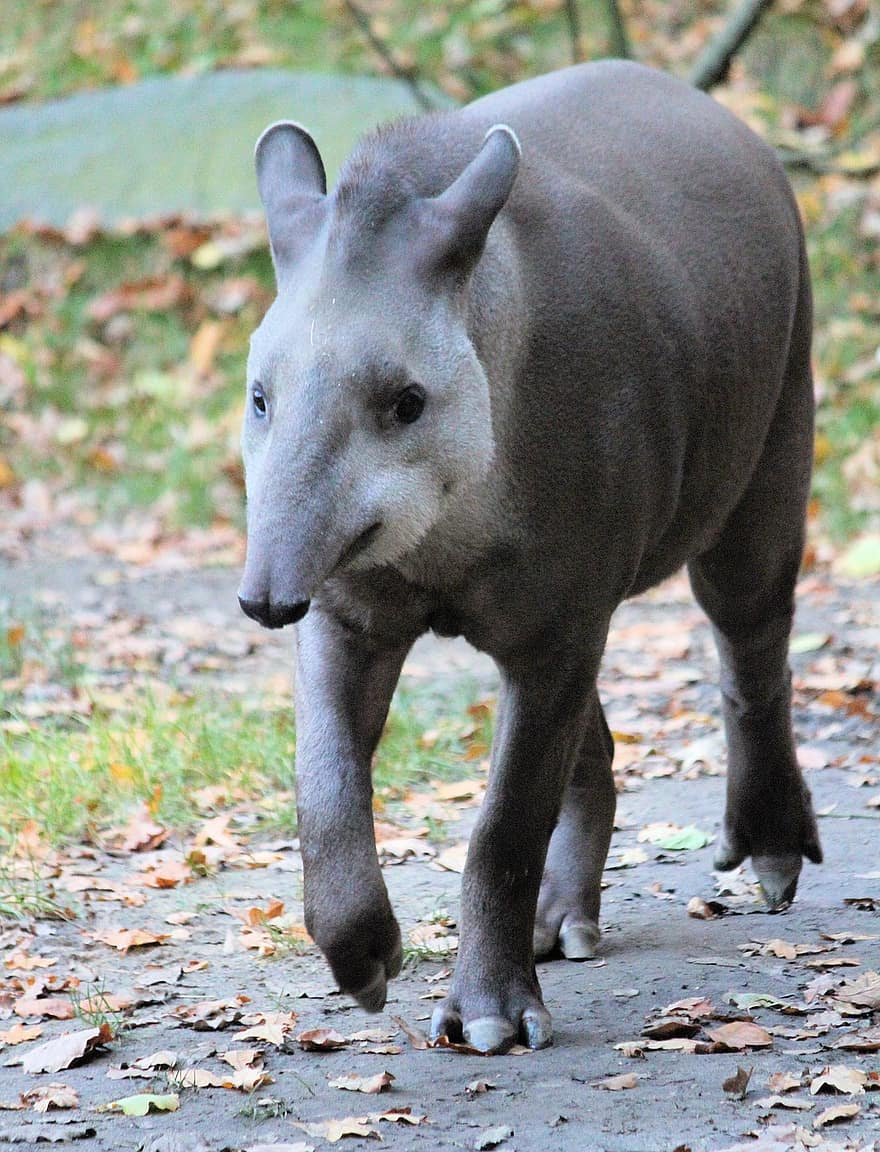Anta: (206, 55, 849, 1066)
